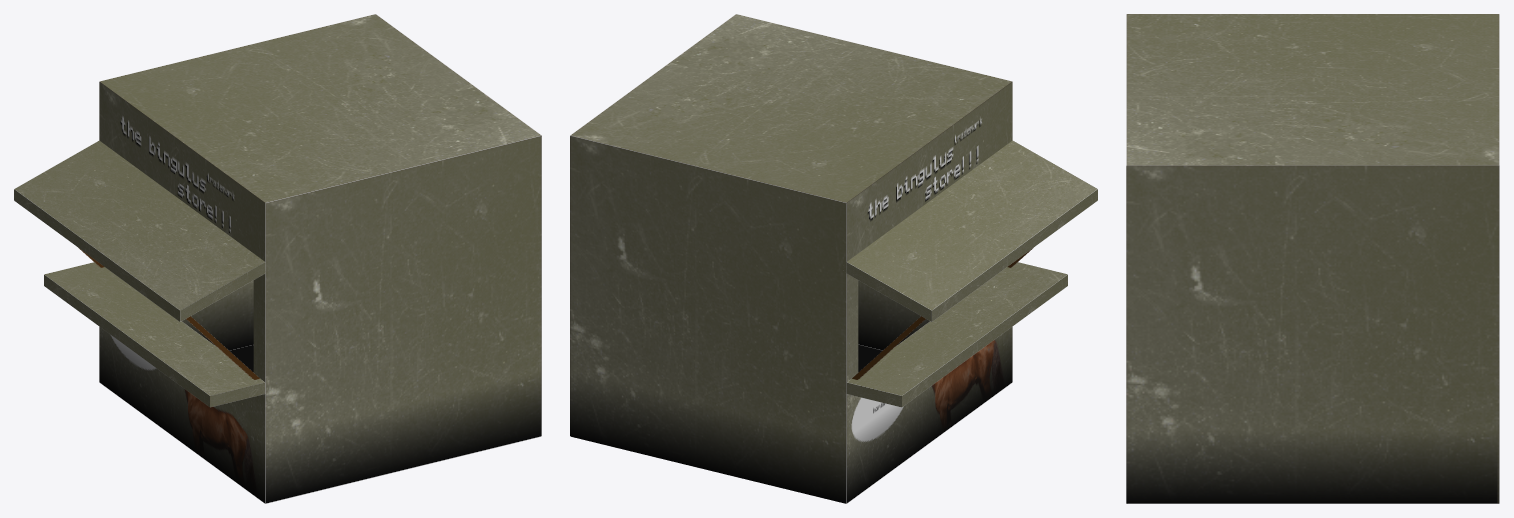
Rendered from portableShop.obj.
The picture shows the model from 3 angles, left to right: view 1: azimuth 30°, elevation 25°; view 2: azimuth 150°, elevation 25°; view 3: azimuth 270°, elevation 25°; orthographic projection. The views are drawn at different scales.
Parts seen in each view (by area): view 1: cuboid; view 2: cuboid; view 3: cuboid.
Boxes of the visible parts, left/top/right/bottom form: cuboid: left=14, top=14, right=541, bottom=503; cuboid: left=570, top=14, right=1097, bottom=503; cuboid: left=1126, top=14, right=1499, bottom=503.
Size of the model in its own units: 1.02 by 0.8125 by 0.8125.
1 material, 1 textured.
